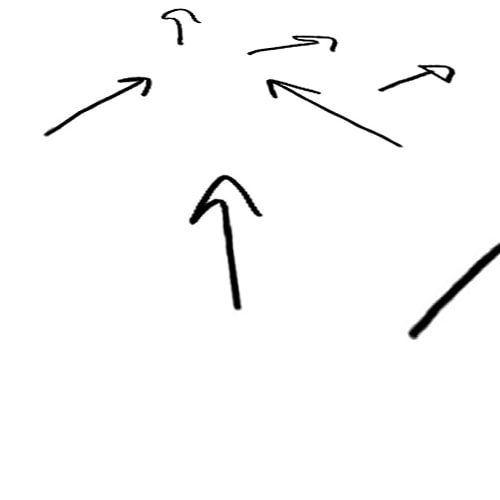arrow: (188, 173, 264, 317), (261, 78, 405, 148), (47, 79, 155, 138), (379, 63, 454, 95), (247, 34, 340, 52), (163, 8, 201, 47)
arrownohead: (404, 240, 499, 340)
